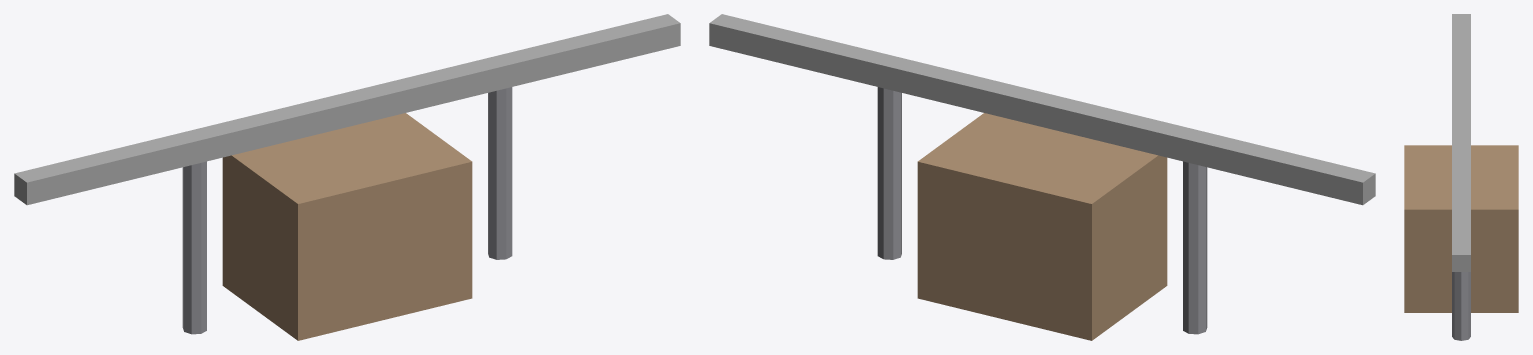
The model's file is restaurant_barrier.glb.
3 views of the same model, side by side, from view 1: azimuth 30°, elevation 25°; view 2: azimuth 150°, elevation 25°; view 3: azimuth 270°, elevation 25° (orthographic). The views are drawn at different scales.
Visible parts, largest first — view 1: planter, rail, post2, post1; view 2: planter, rail, post2, post1; view 3: planter, rail, post2.
Boxes of the visible parts, x1,y1,x2,y2 form: planter: [222, 113, 472, 340]; rail: [14, 14, 680, 205]; post2: [488, 87, 512, 259]; post1: [182, 161, 206, 334]; planter: [917, 113, 1167, 340]; rail: [709, 14, 1375, 205]; post2: [877, 87, 901, 259]; post1: [1183, 161, 1207, 334]; planter: [1404, 145, 1518, 312]; rail: [1452, 14, 1470, 271]; post2: [1452, 272, 1470, 340].
Bounding box in the file's own units: 3 × 0.8499 × 0.6001.
